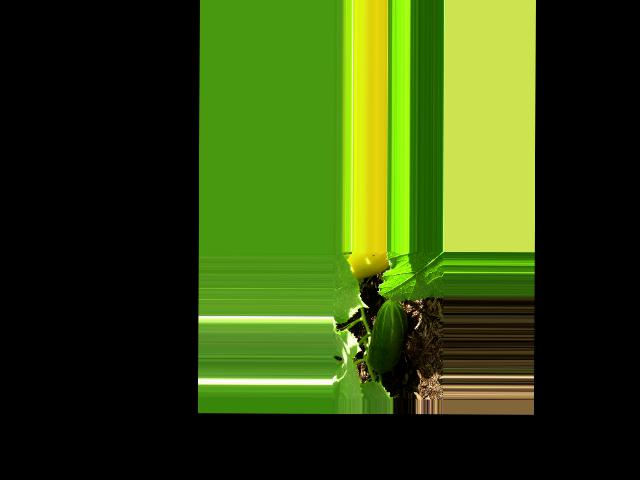cucumber: (368, 299, 409, 373)
